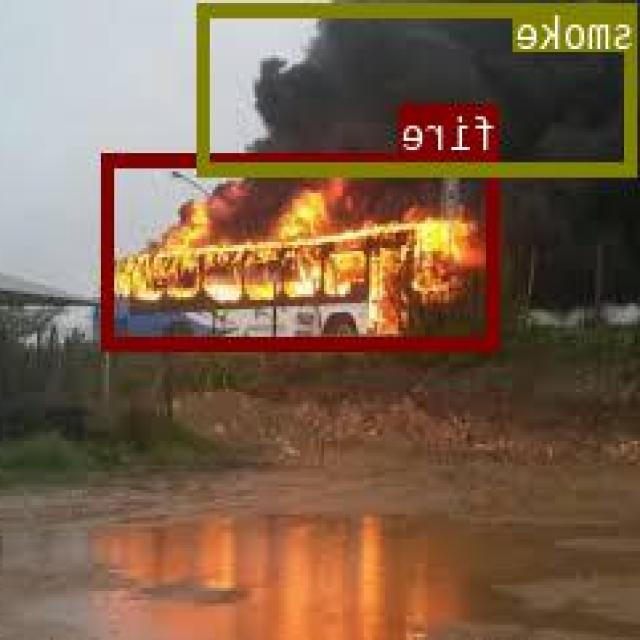fire: (106, 153, 500, 347)
smoke: (200, 2, 640, 172)
